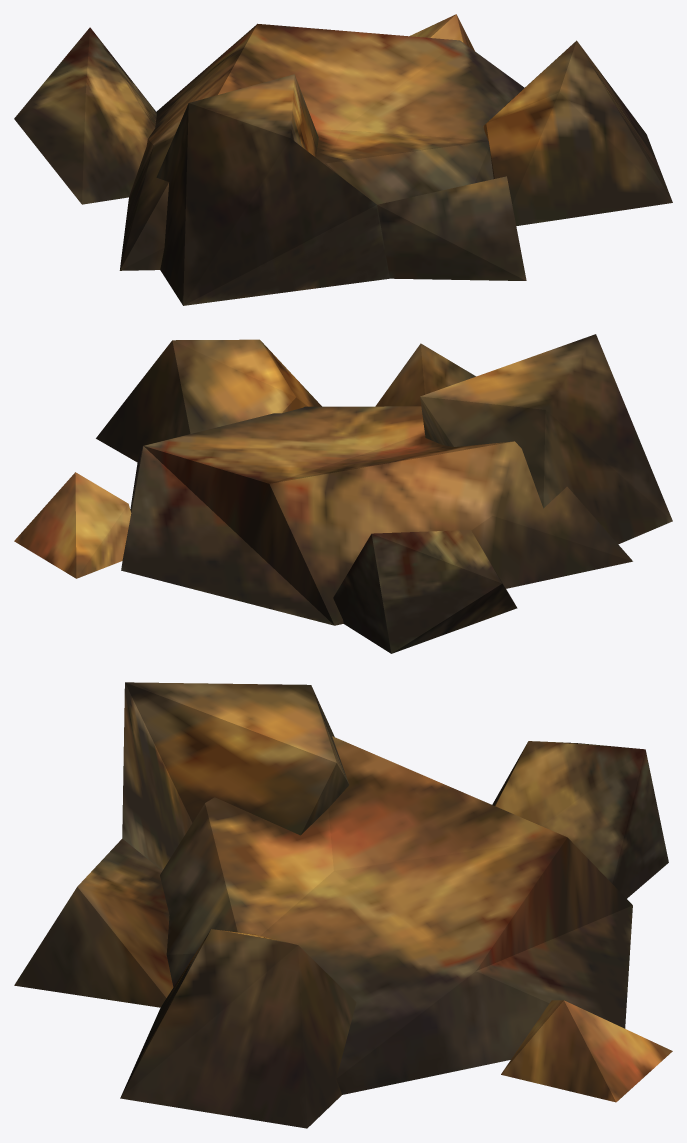
The model's file is cave_campfire_01.fbx.
The picture shows the model from 3 angles, top to bottom: view 1: azimuth 30°, elevation 25°; view 2: azimuth 150°, elevation 25°; view 3: azimuth 270°, elevation 25°; orthographic projection. The views are drawn at different scales.
Parts seen in each view (by area): view 1: obj0.065; view 2: obj0.065; view 3: obj0.065.
Part boxes in pixels (x1,y1,x2,y2): obj0.065: (14,14,672,305); obj0.065: (14,334,672,653); obj0.065: (14,682,672,1128).
Size of the model in its own units: 1.52 by 0.4233 by 1.33.
